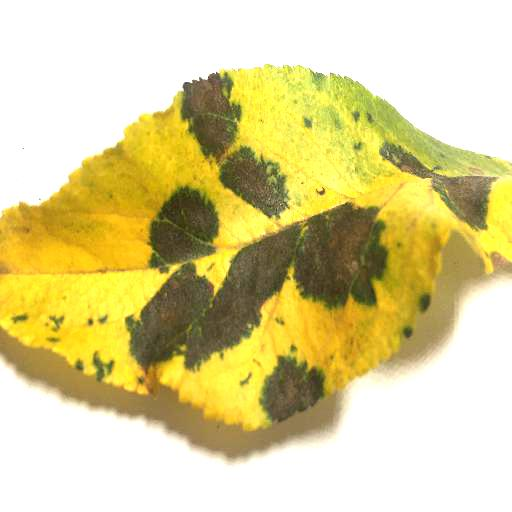Brown_Spot: (206, 224, 364, 345), (383, 147, 493, 219), (135, 195, 206, 256), (145, 272, 201, 345), (223, 158, 284, 210), (180, 89, 227, 147), (257, 375, 318, 414)
